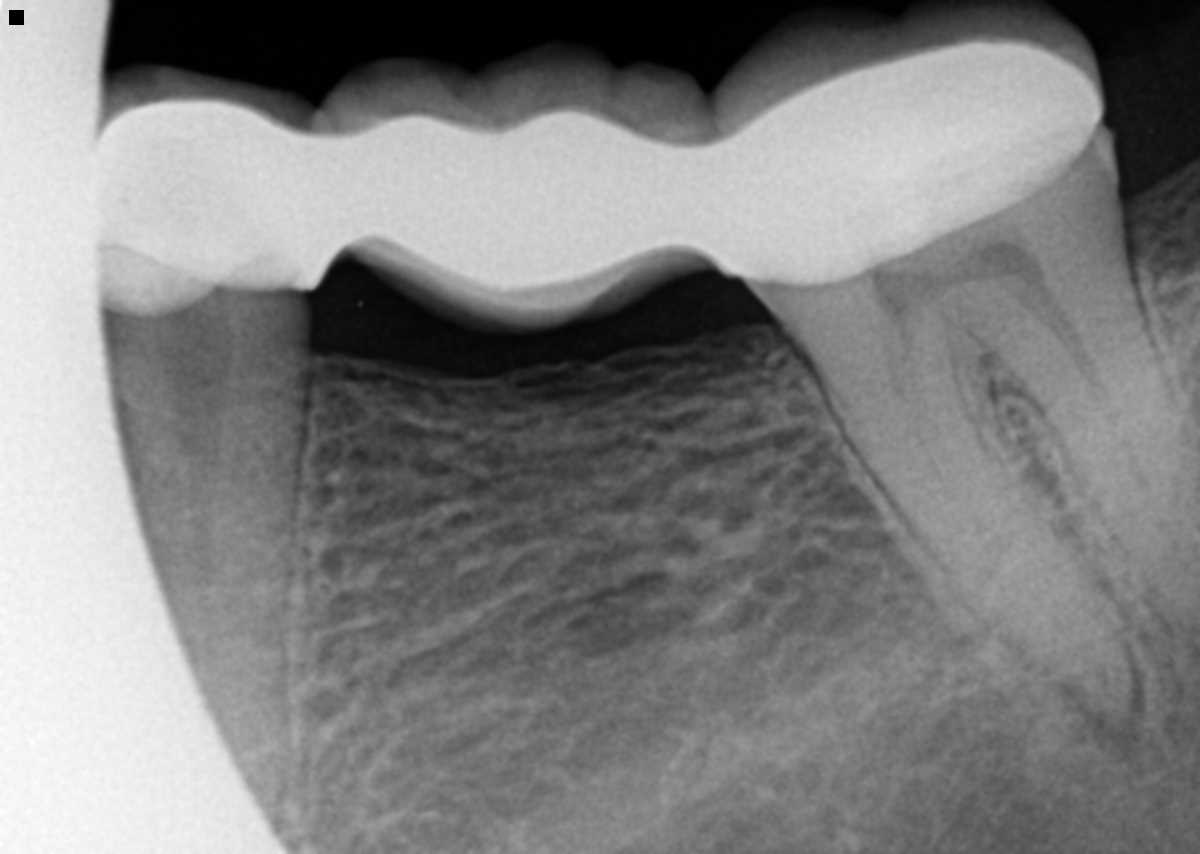Apical Lesion: (1078, 668, 1148, 759)
Distal Canal: (1037, 298, 1190, 565)
Distal Root: (1004, 264, 1200, 620)
Main Canal: (186, 391, 234, 706)
Main Root: (103, 387, 304, 824)
Mesial Canal: (891, 341, 949, 492)
Mesial Root: (836, 338, 1130, 724)
